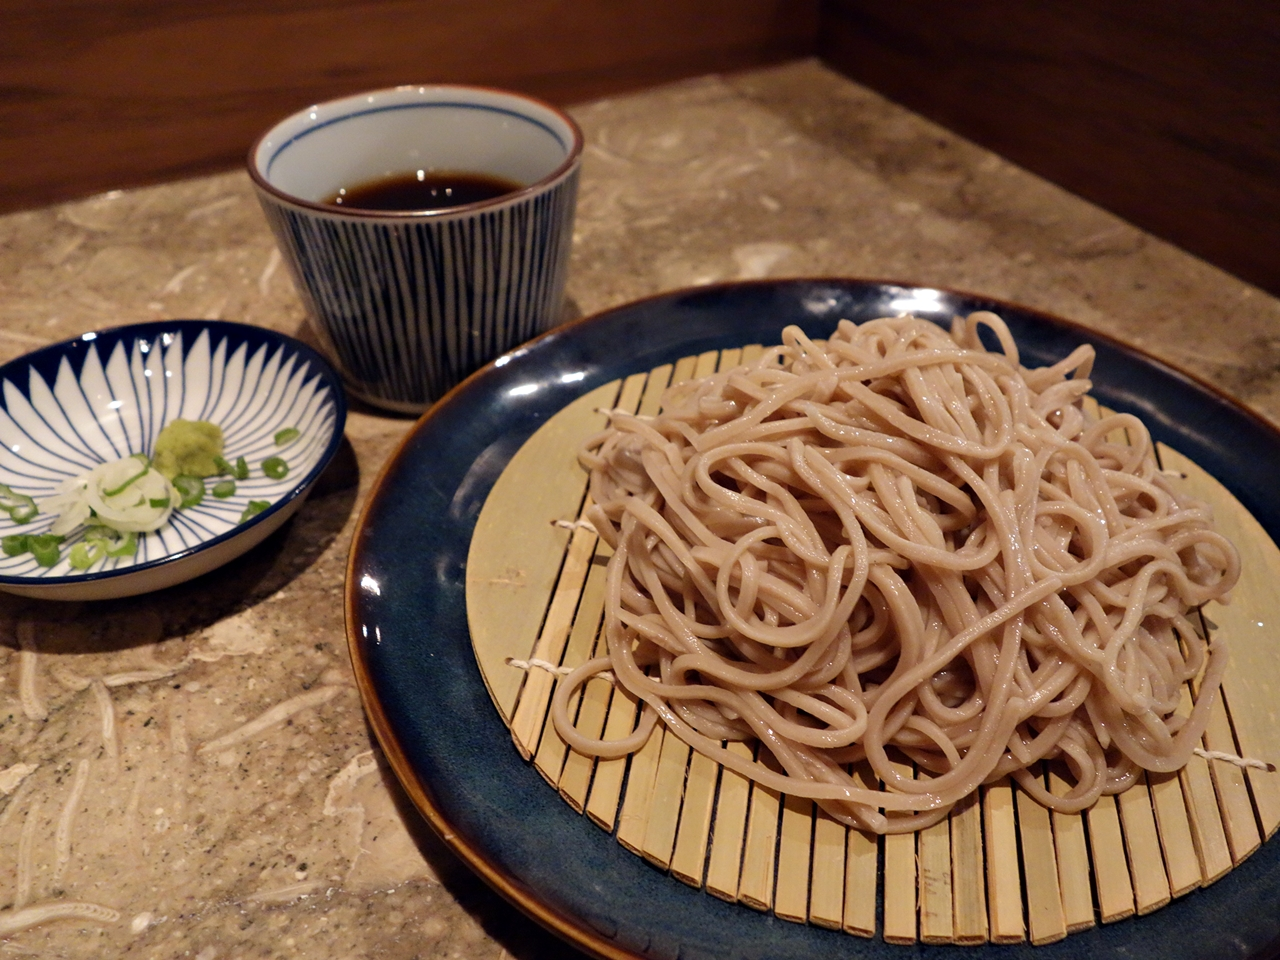Soba: (525, 319, 1269, 813)
